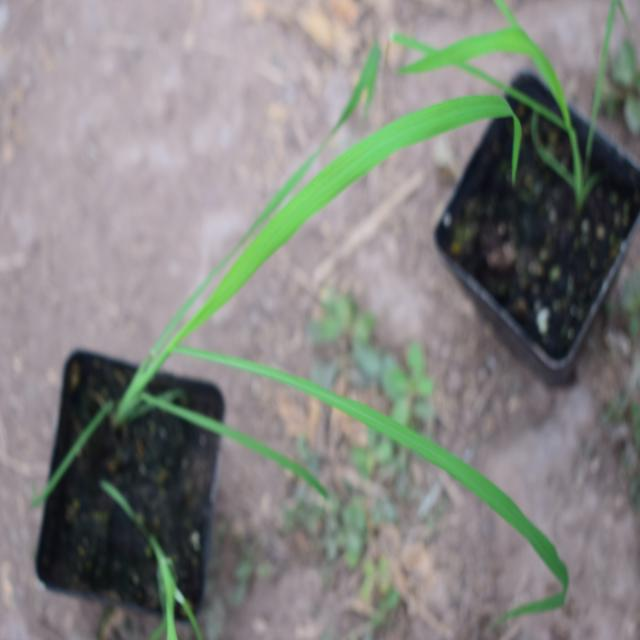barnyard_grass: (107, 76, 575, 596)
